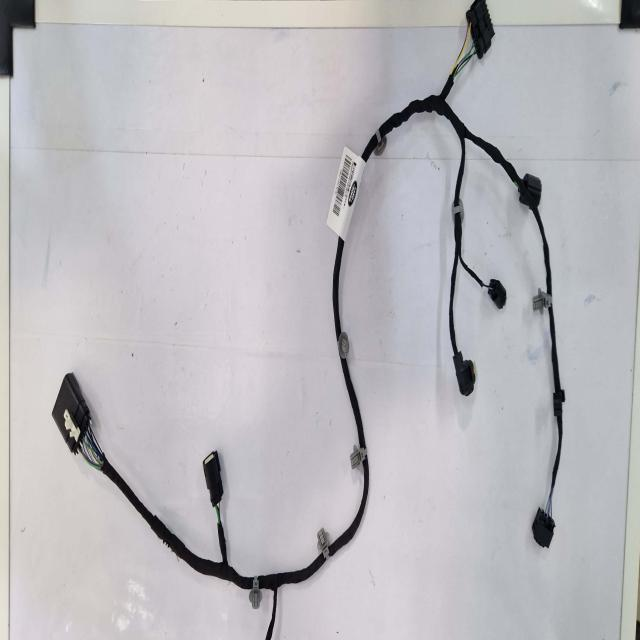Clip: (534, 280, 554, 305), (252, 565, 265, 598), (354, 435, 370, 458), (375, 125, 388, 153), (555, 379, 568, 407), (321, 516, 332, 547), (340, 323, 351, 351), (452, 193, 465, 216)
Connector: (52, 377, 91, 456), (466, 0, 494, 56), (203, 451, 223, 504), (454, 353, 477, 396), (533, 507, 555, 546), (520, 168, 542, 203), (490, 272, 508, 300)
Gape: (83, 418, 113, 470), (445, 38, 478, 70), (214, 494, 226, 523)
Info: (327, 148, 365, 239)
MHEV_N11_Cable: (347, 38, 565, 539), (99, 457, 249, 589), (322, 241, 371, 559), (256, 548, 326, 640)
